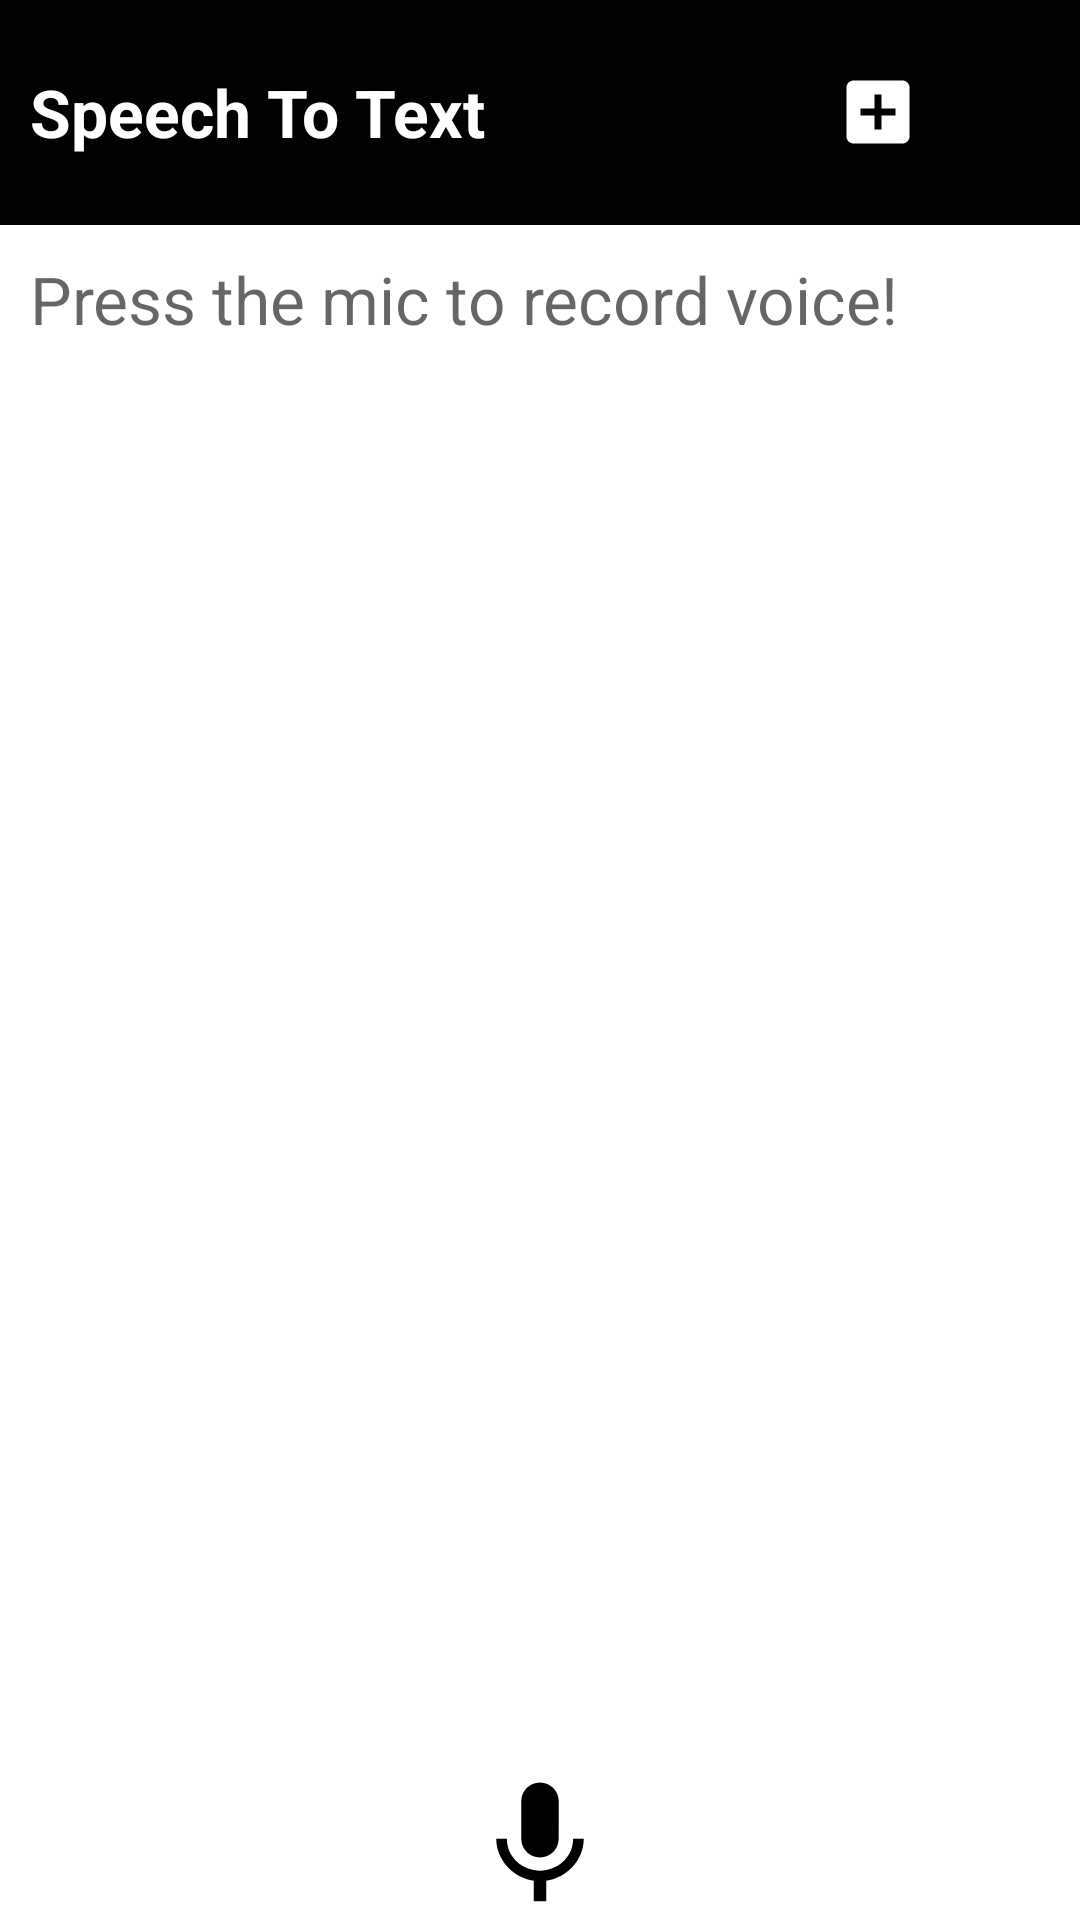

Screen size 1080w x 1920h. Icon name, then its center in pixels as (x=x, y=y):
add box: (x=878, y=112)
mic: (x=540, y=1842)
